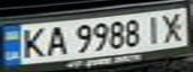8: (121, 16, 145, 48), (106, 18, 127, 51)
9: (69, 21, 93, 54), (90, 20, 112, 52)
A: (42, 24, 69, 57)
I: (139, 12, 166, 45)
K: (15, 25, 48, 60)
X: (157, 10, 190, 43)
